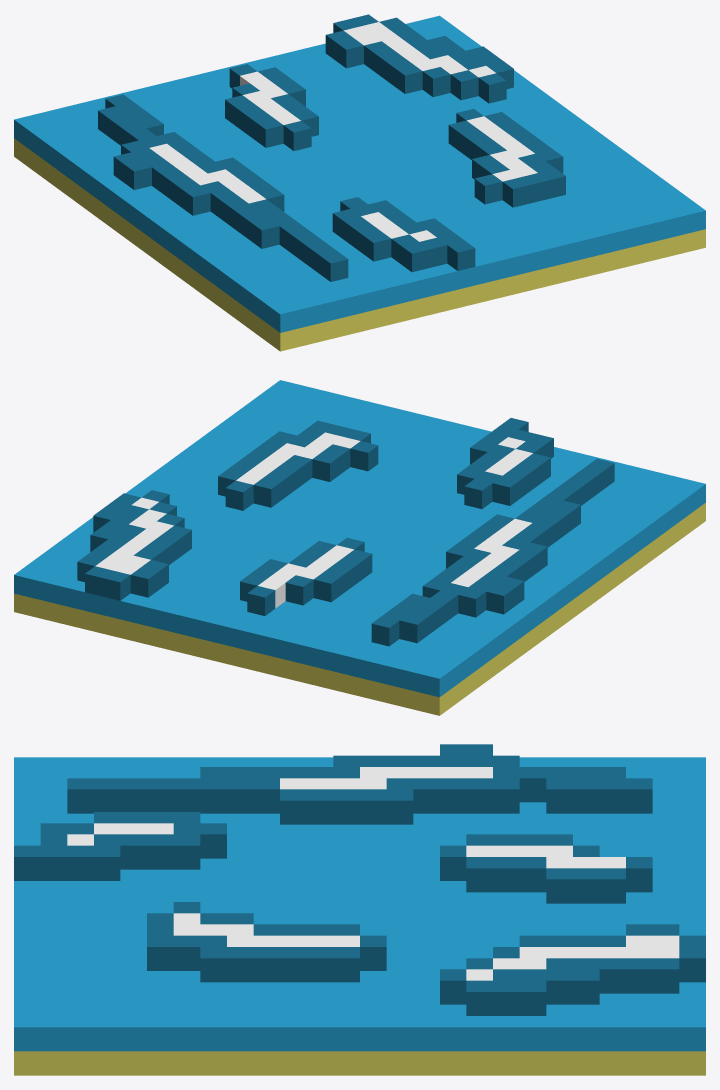
File: Water.gltf
3 views of the same model, one above another, from view 1: azimuth 30°, elevation 25°; view 2: azimuth 150°, elevation 25°; view 3: azimuth 270°, elevation 25° (orthographic). The views are drawn at different scales.
Parts seen in each view (by area): view 1: Layer.1, Layer.2; view 2: Layer.1, Layer.2; view 3: Layer.1, Layer.2.
Boxes of the visible parts, x1,y1,x2,y2 form: Layer.1: (14, 15, 705, 351); Layer.2: (98, 14, 565, 281); Layer.1: (14, 380, 705, 715); Layer.2: (77, 418, 614, 646); Layer.1: (14, 757, 705, 1075); Layer.2: (14, 744, 705, 1015).
Bounding box in the file's own units: 24 × 3 × 26.
Materials: 1 (1 with a texture image).
